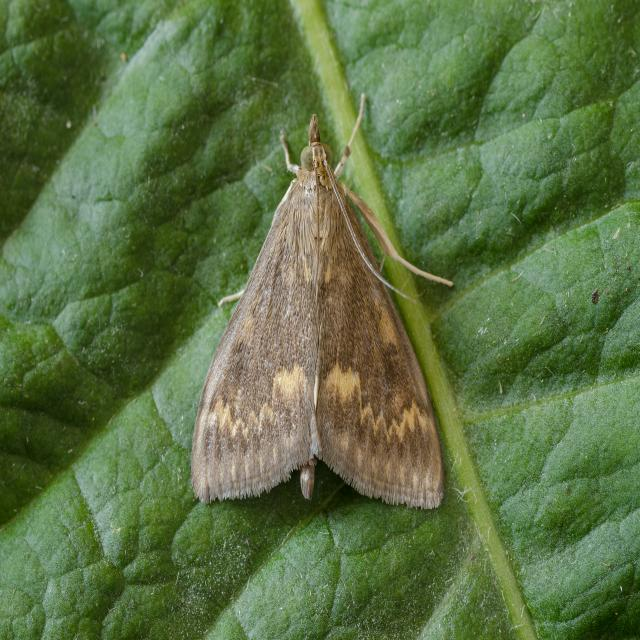cornborer-Adult-: (161, 74, 464, 548)
